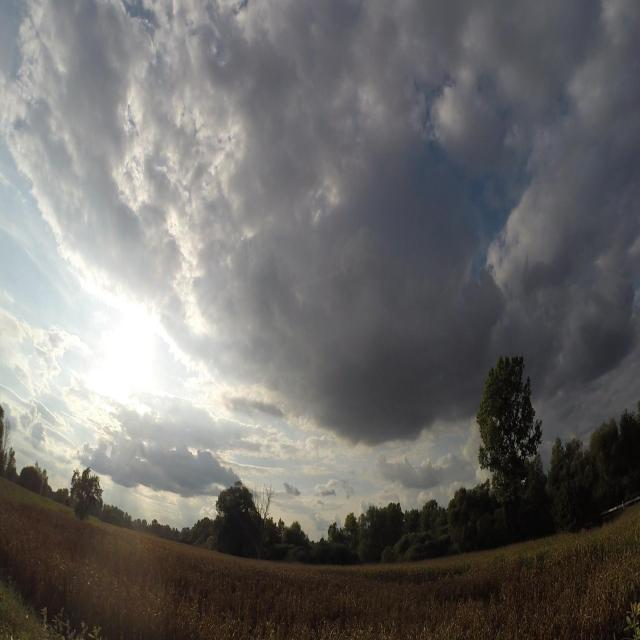drone: (518, 474, 528, 488)
